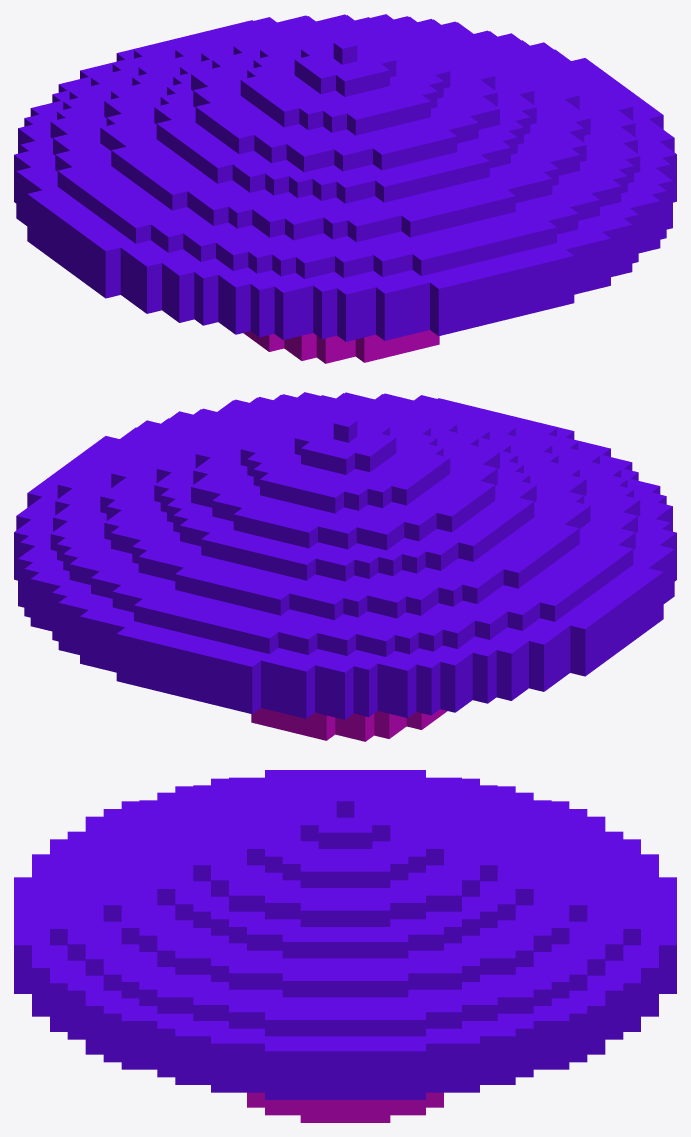
The model's file is Mushroom1.dae.
3 views of the same model, one above another, from view 1: azimuth 30°, elevation 25°; view 2: azimuth 150°, elevation 25°; view 3: azimuth 270°, elevation 25° (orthographic). The views are drawn at different scales.
Visible parts, largest first — view 1: Mushroom1; view 2: Mushroom1; view 3: Mushroom1.
Part boxes in pixels (<box>): Mushroom1: <box>14,14,676,363</box>; Mushroom1: <box>14,392,676,741</box>; Mushroom1: <box>14,770,676,1122</box>.
Bounding box in the file's own units: 3.7 × 1.7 × 3.7.
Materials: 1 (1 with a texture image).
